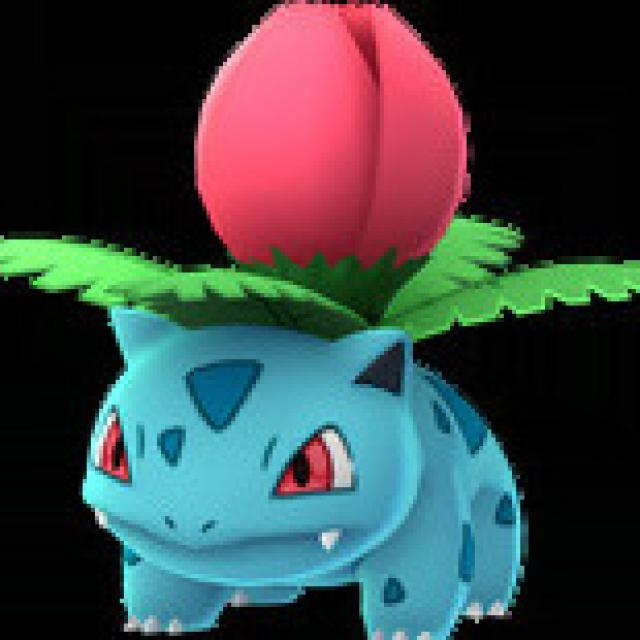Ivysaur: (84, 4, 513, 635)
